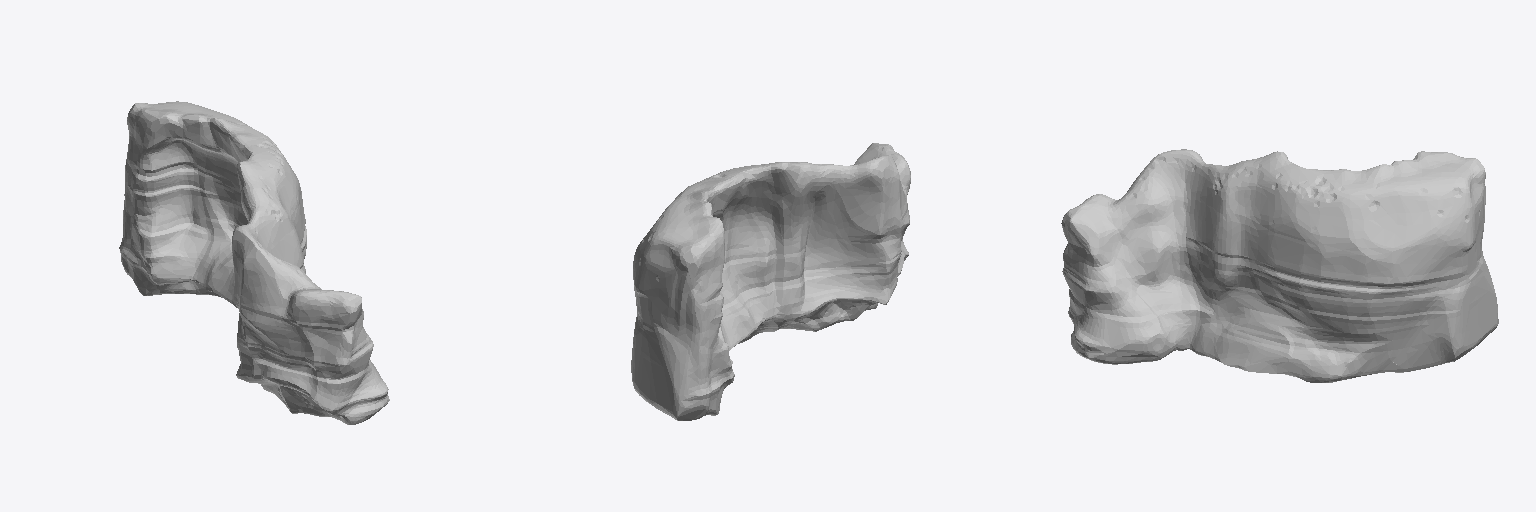
File: Cliff_Start_right.obj
3 views of the same model, side by side, from view 1: azimuth 30°, elevation 25°; view 2: azimuth 150°, elevation 25°; view 3: azimuth 270°, elevation 25° (orthographic).
Size of the model in its own units: 56.7 by 70.21 by 143.